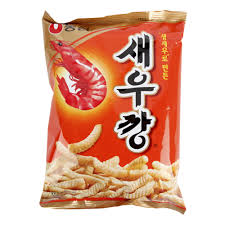snack1: (36, 6, 191, 218)
